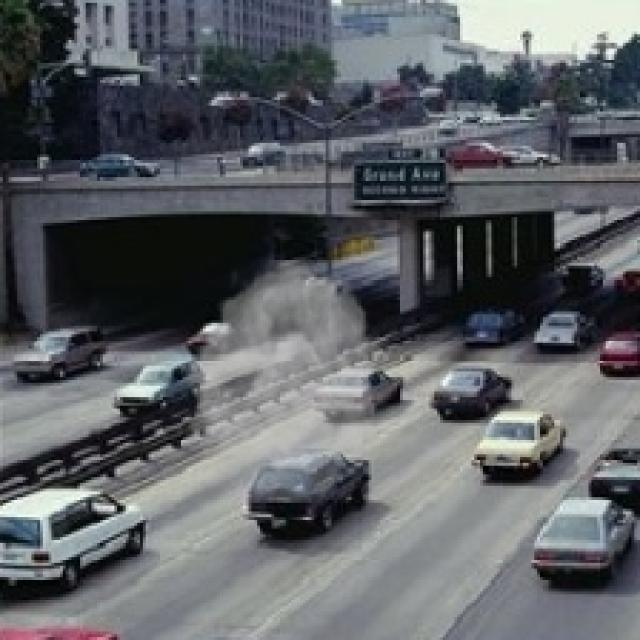smoke: (177, 260, 392, 503)
